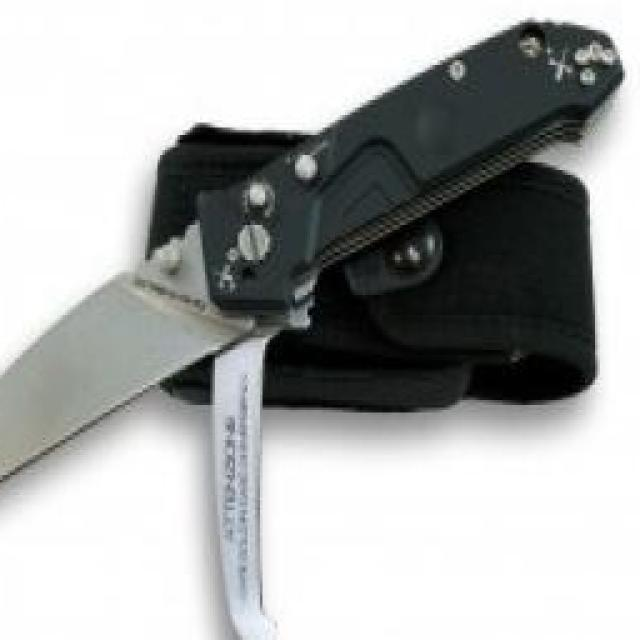knife: (0, 215, 235, 527)
